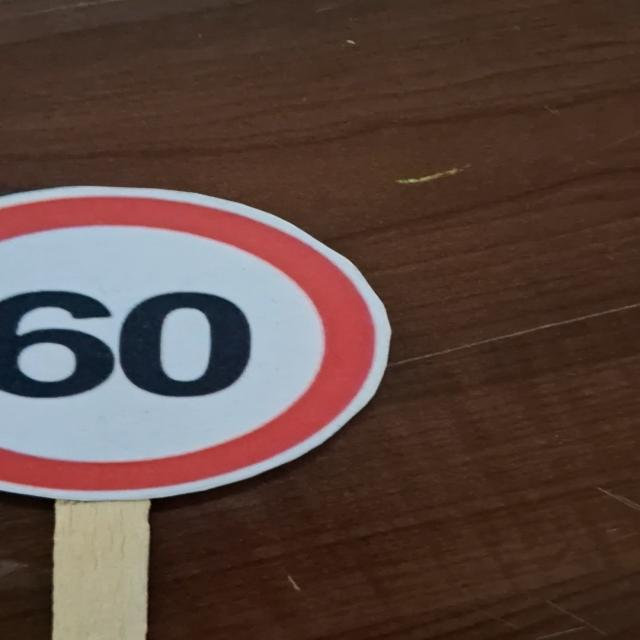Speed60: (0, 166, 400, 507)
